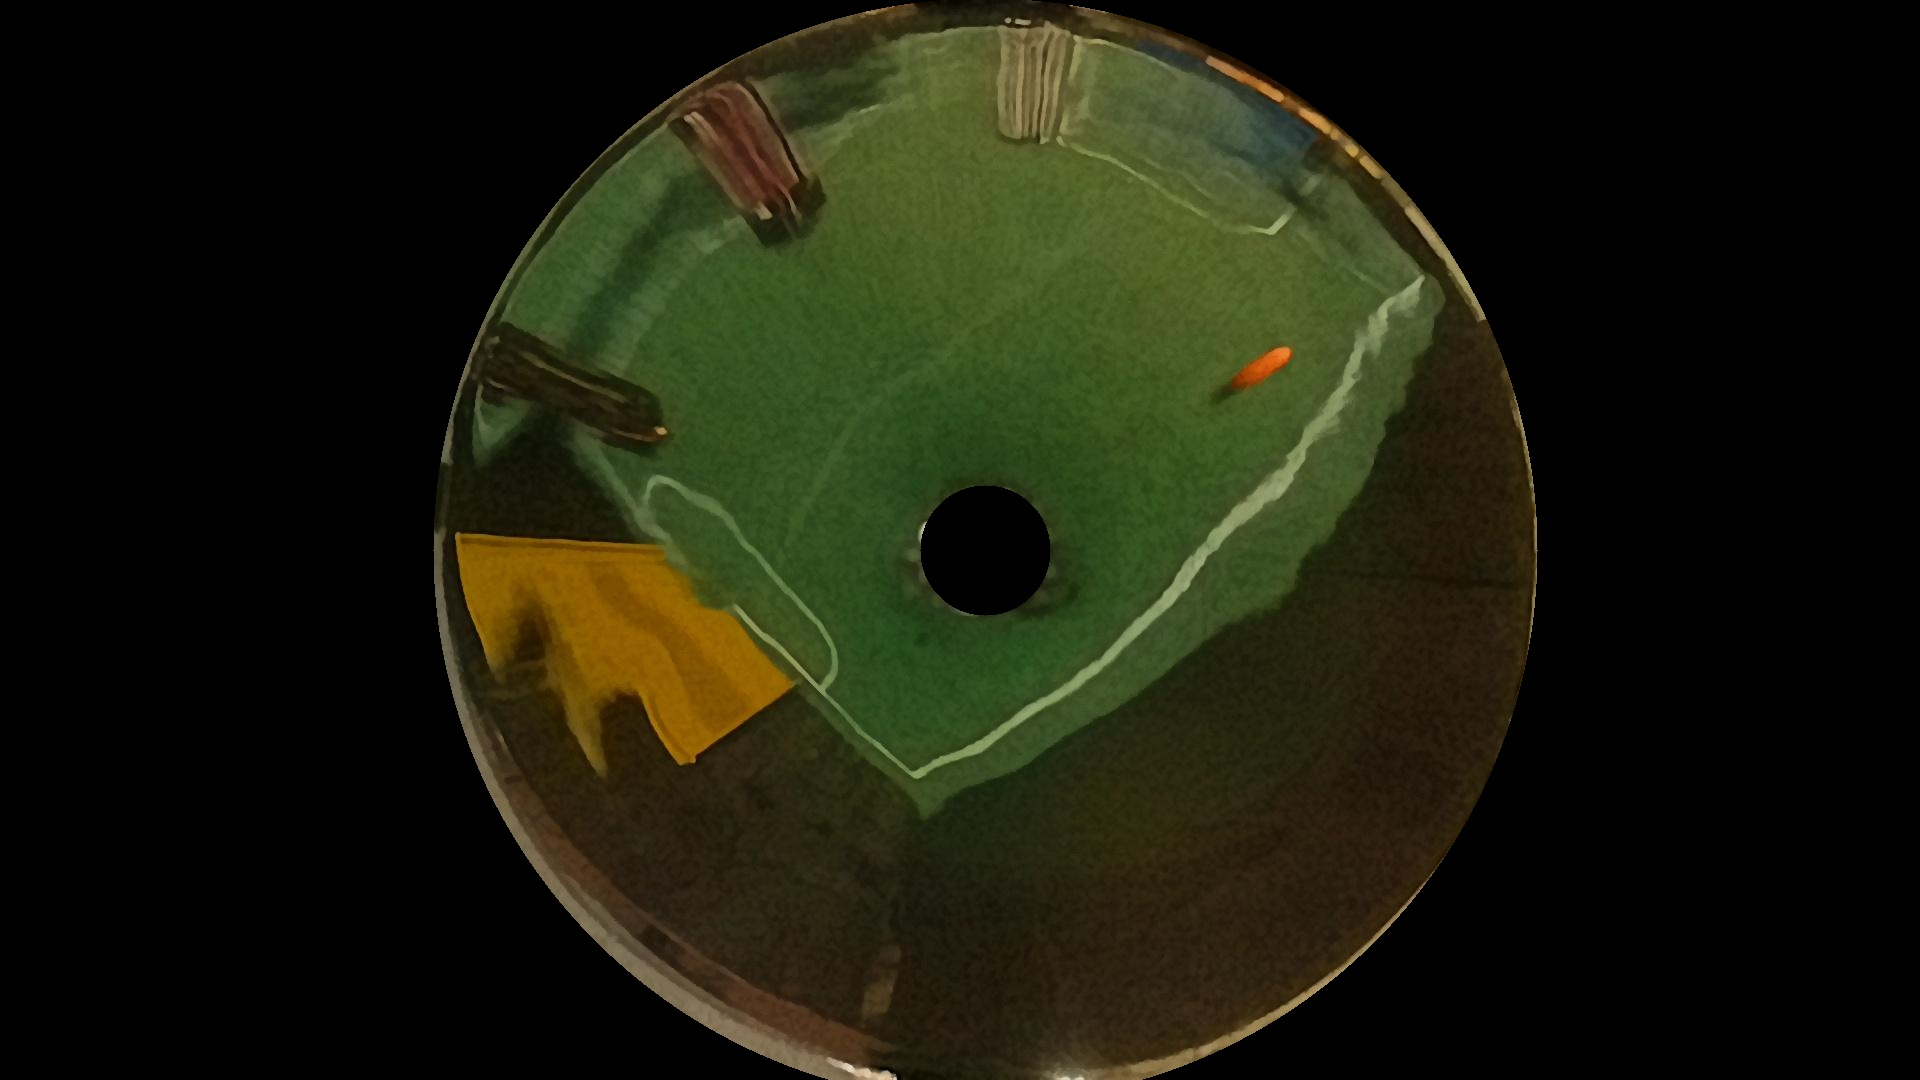ball: (1211, 334, 1303, 405)
blue-goal: (455, 524, 795, 750), (1092, 26, 1335, 171)
robots: (463, 315, 682, 455), (667, 67, 829, 240), (990, 15, 1062, 173)
